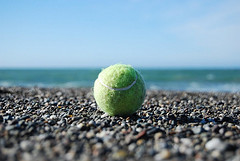tennis ball: (92, 62, 146, 117)
